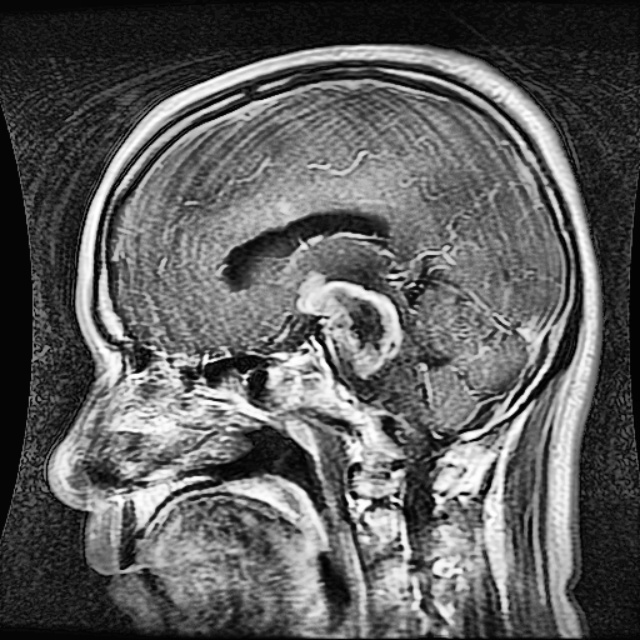Meningioma: (295, 269, 402, 375)
